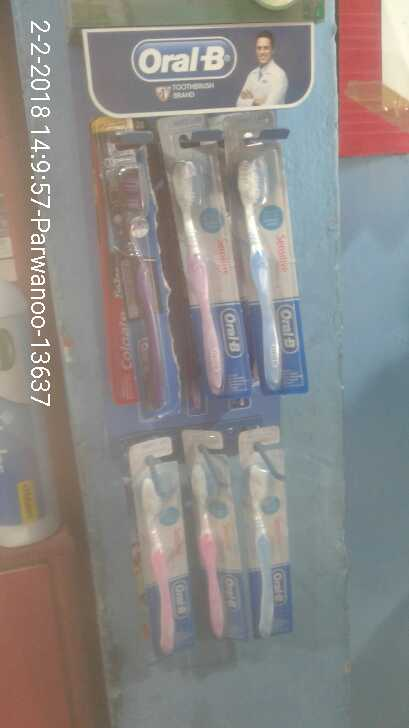oralb: (99, 130, 178, 438), (225, 122, 306, 411), (154, 127, 234, 396), (177, 445, 242, 638), (133, 446, 187, 654), (244, 442, 295, 639)
